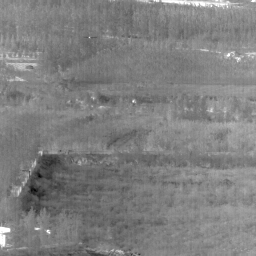aircraft: (88, 36, 90, 38)
